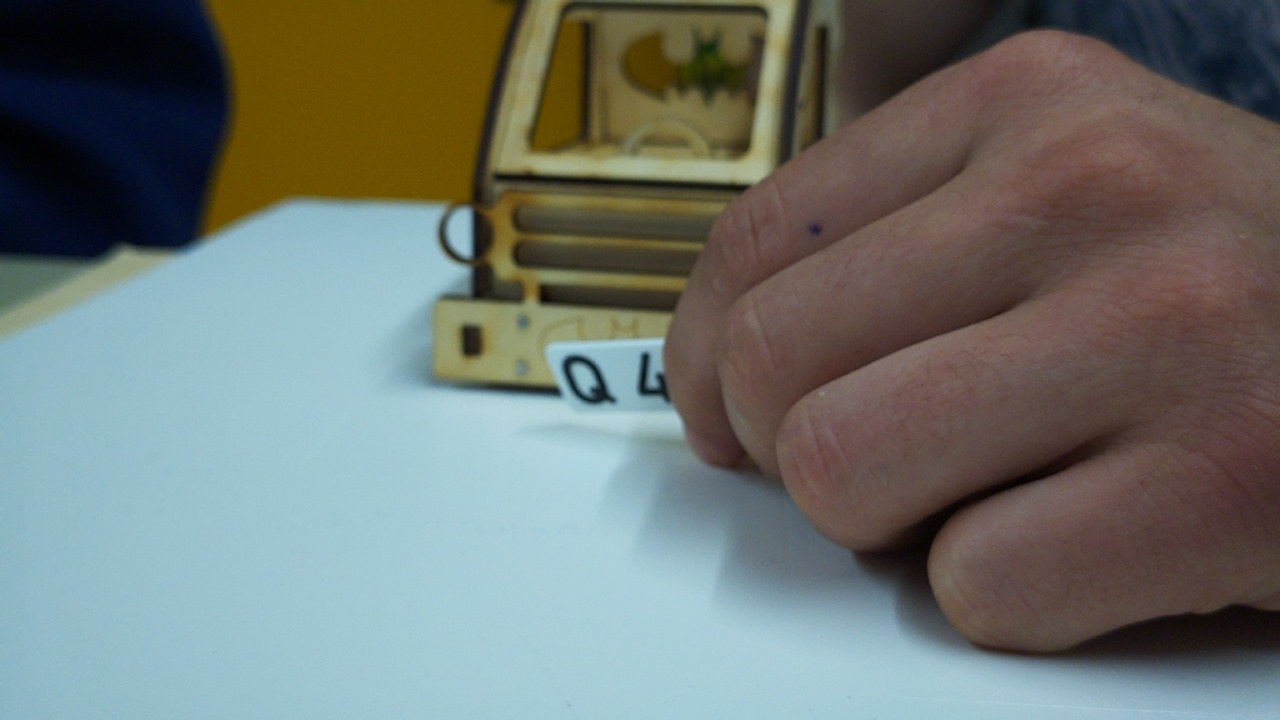license_plate: (539, 339, 688, 419)
